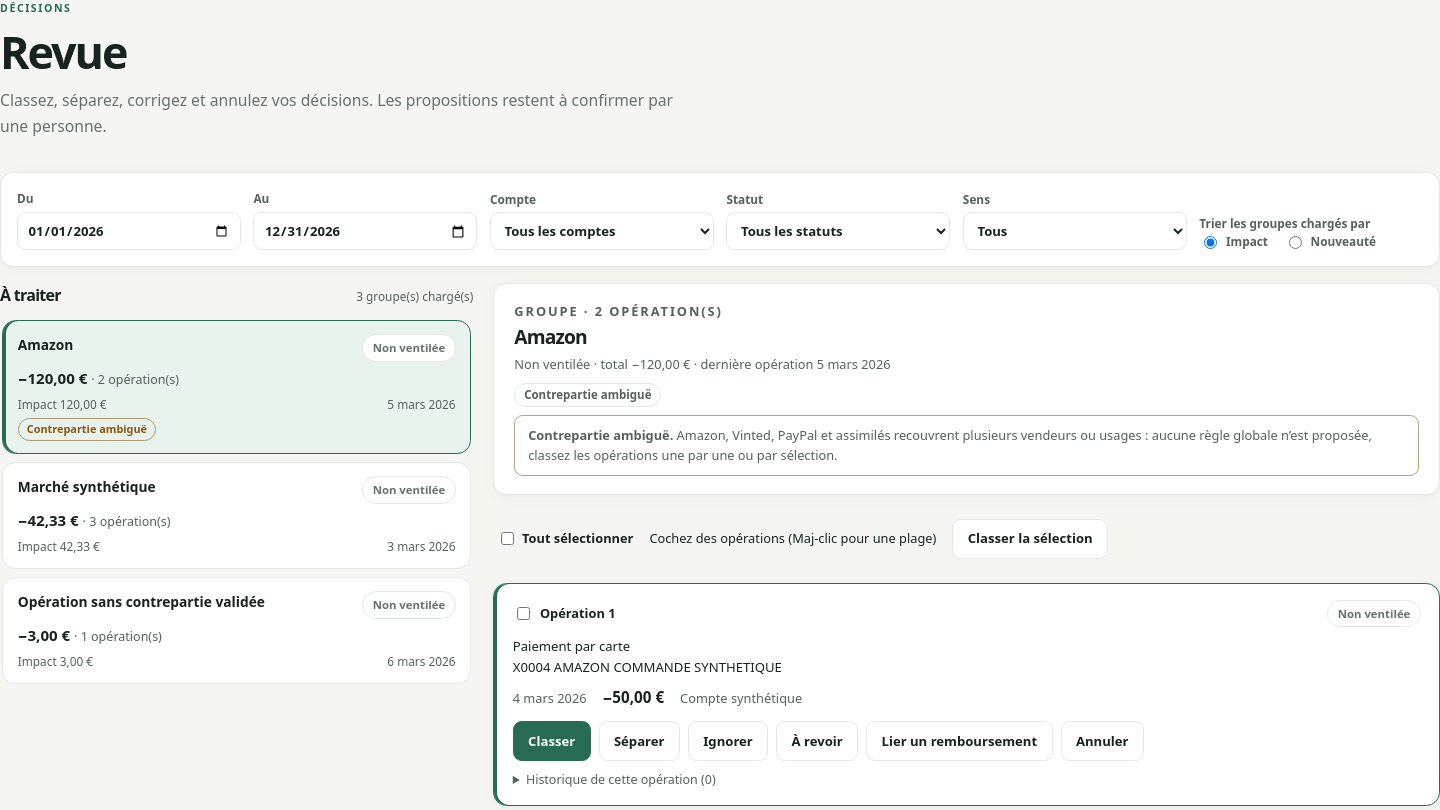
Test: UI-REVIEW-04 · portée explicite et marchands ambigus › désactive les futures correspondances pour une contrepartie ambiguë et l’explique
This screenshot has width=1440, height=810.
Click the option "Amazon".
click(46, 344)  # box top-left (2, 320), bottom-right (471, 454)
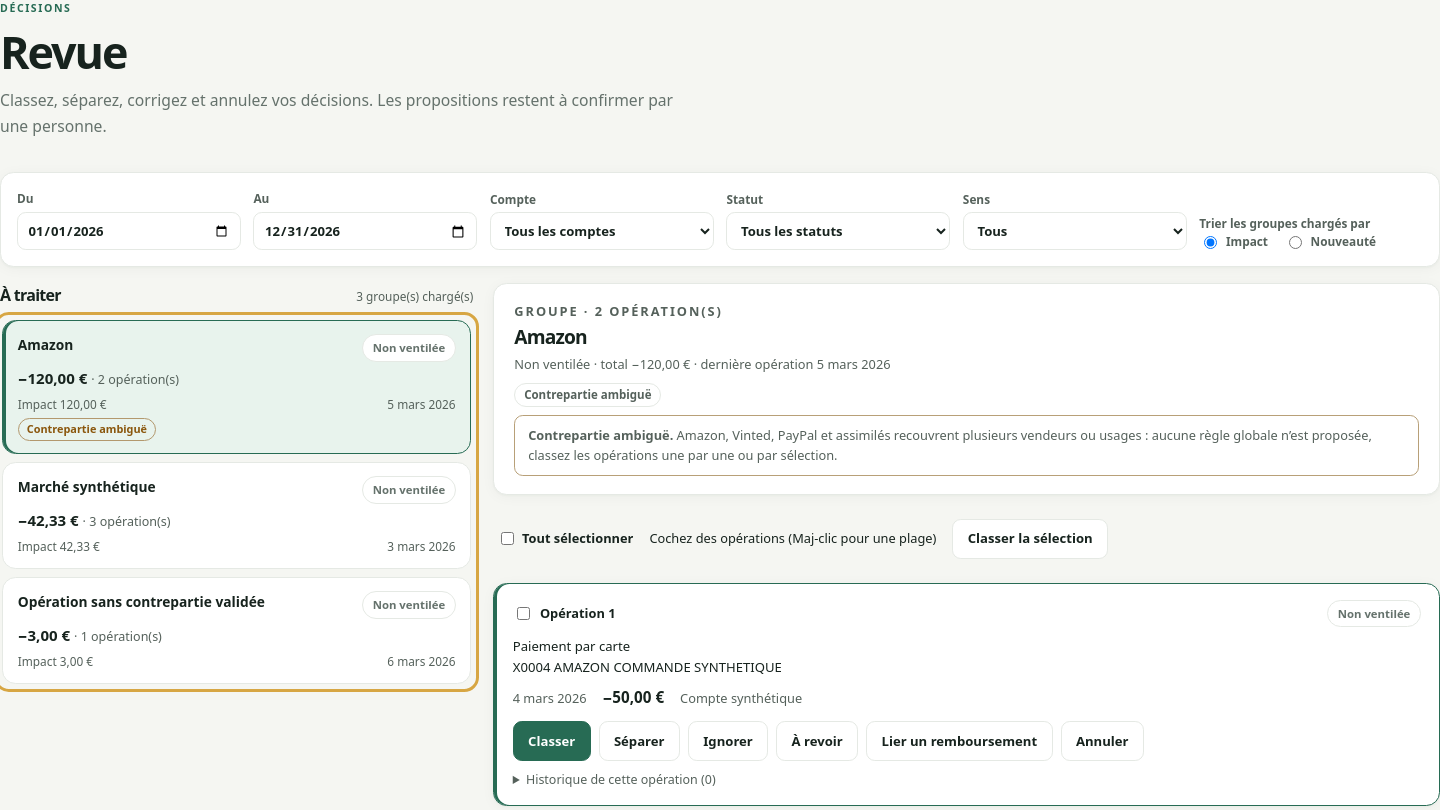
Expected: the text "Contrepartie ambiguë." is shown, top-left (528, 426), bottom-right (673, 444)
Click the button "Classer".
click(552, 741)  # box top-left (513, 721), bottom-right (590, 761)
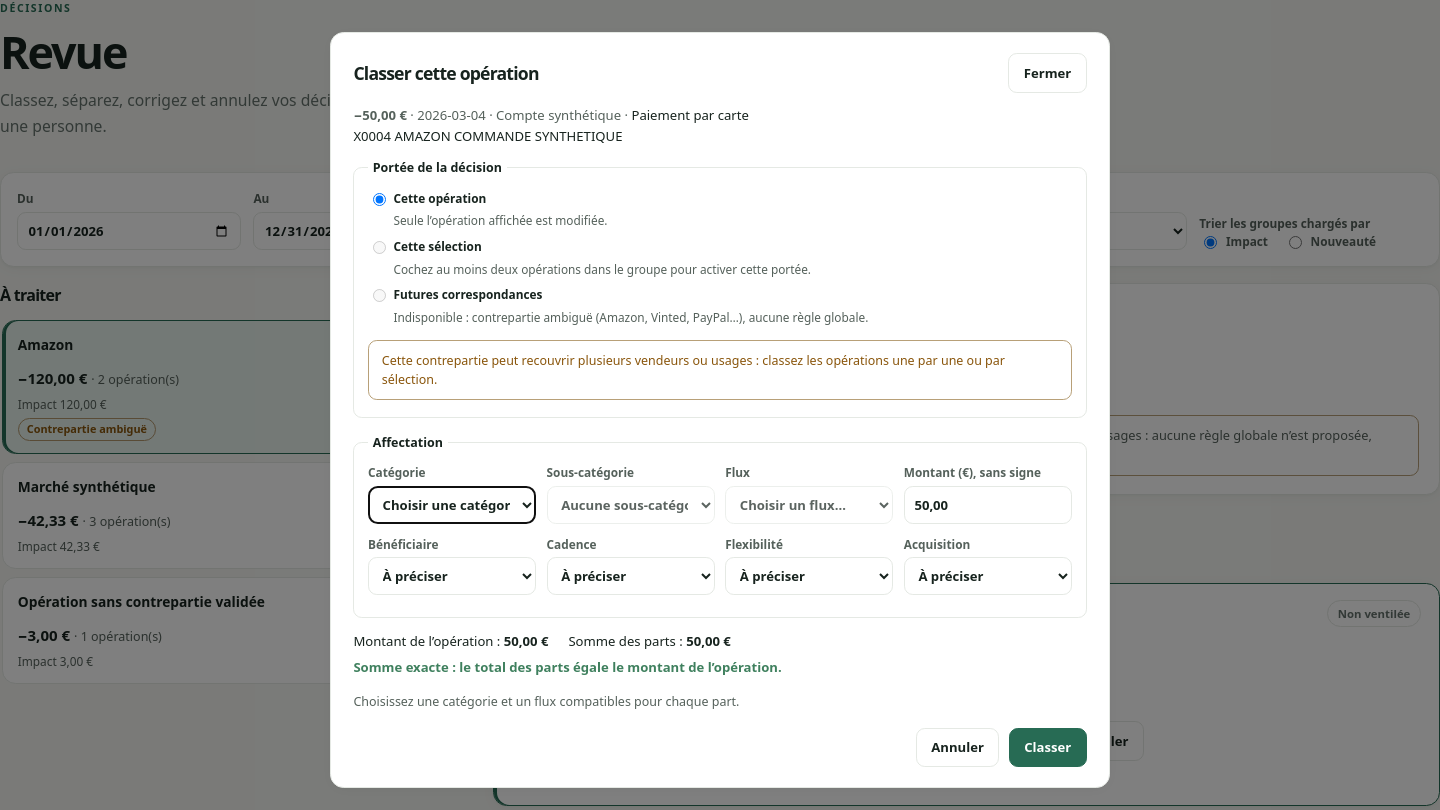
Expected: the radio button labelled "Futures correspondances" is disabled, top-left (373, 289), bottom-right (386, 302)
Expected: the text "contrepartie ambiguë (Amazon, Vinted, PayPal" is shown, top-left (394, 309), bottom-right (868, 325)
Expected: the radio button labelled "Cette opération Seule l’opération affichée est modifiée." is checked, top-left (373, 192), bottom-right (386, 206)
